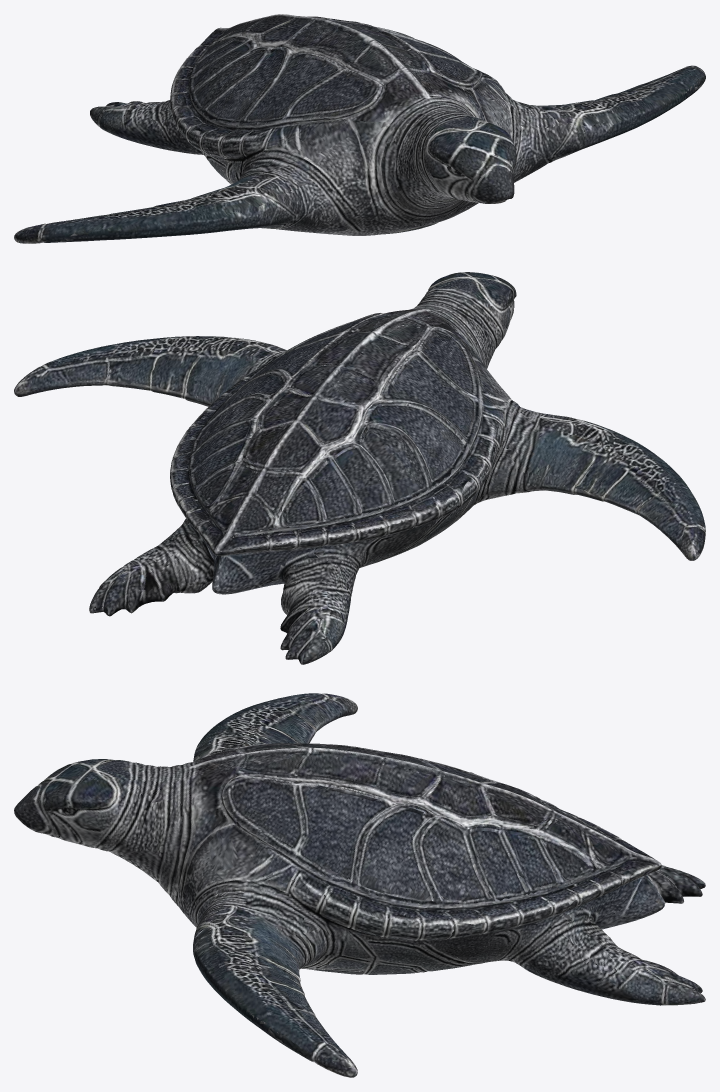
The model's file is turtle.glb.
3 renders of one model, top to bottom at view 1: azimuth 30°, elevation 25°; view 2: azimuth 150°, elevation 25°; view 3: azimuth 270°, elevation 25°, orthographic. The views are drawn at different scales.
Visible parts, largest first — view 1: turtle; view 2: turtle; view 3: turtle.
Boxes of the visible parts, box(x1,y1,x2,y2) form: turtle: box(14, 14, 705, 243); turtle: box(14, 272, 705, 664); turtle: box(14, 693, 705, 1077).
Size of the model in its own units: 1 by 0.2534 by 0.7911.
1 material, 1 textured.
